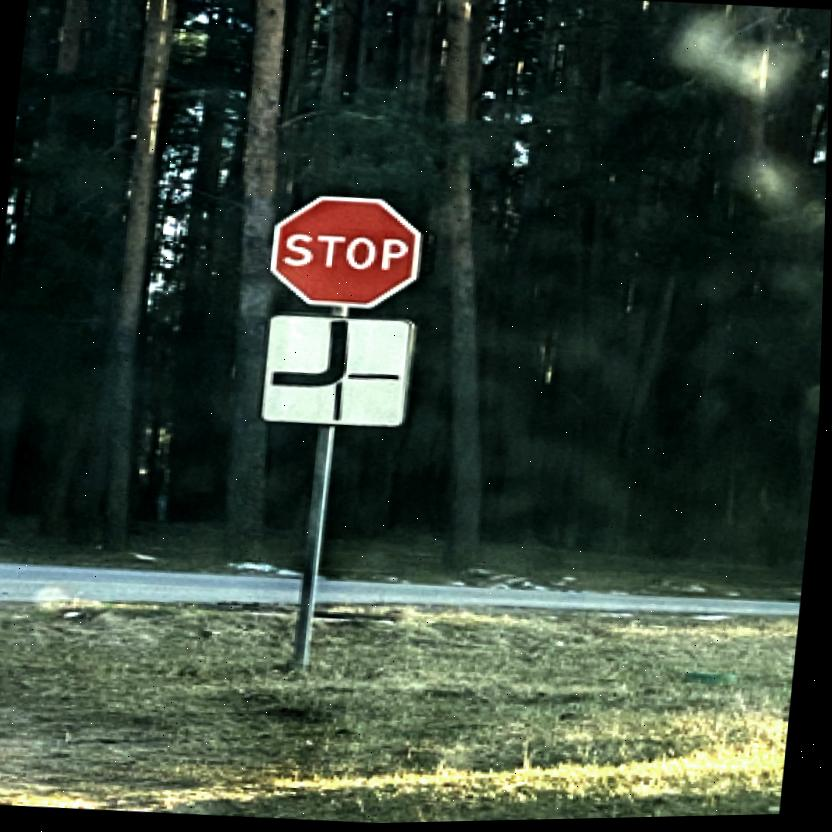Pole: (292, 423, 339, 671)
Sign: (266, 191, 428, 318)
